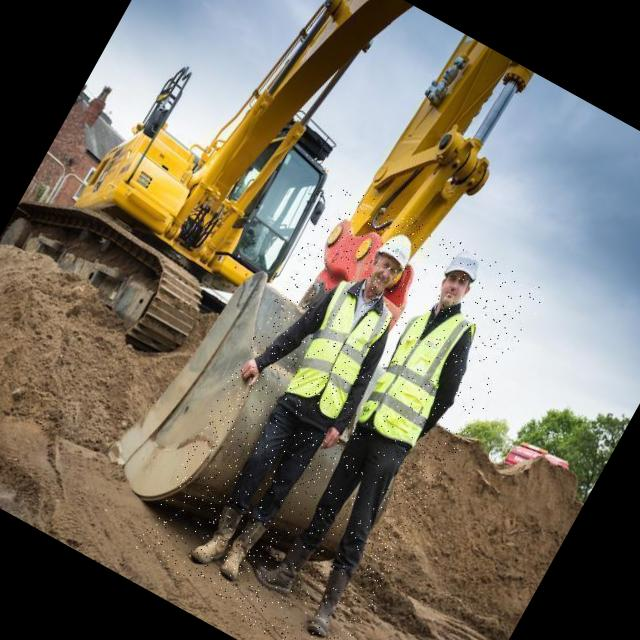hard_hat: (364, 220, 428, 282), (436, 242, 492, 293)
safety_vest: (346, 286, 490, 462), (268, 268, 407, 428)
vehicle: (134, 179, 452, 612), (230, 232, 549, 640)
work_boots: (242, 518, 324, 608), (292, 555, 370, 640), (184, 492, 254, 578), (209, 500, 275, 591)
